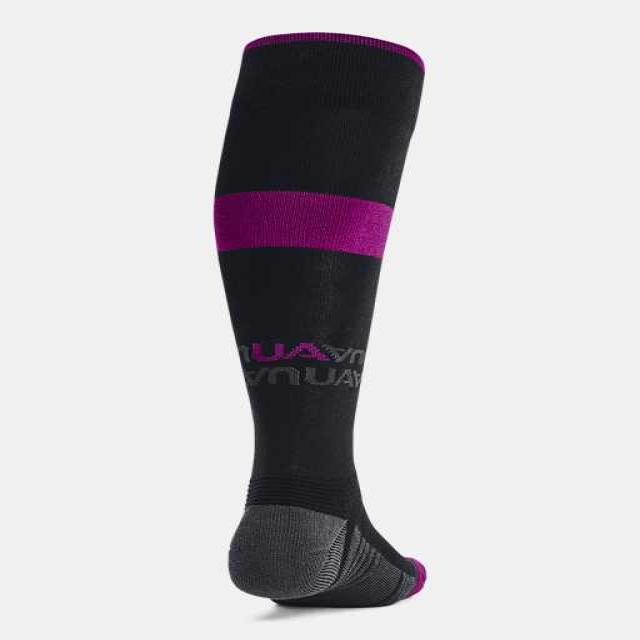sock: (212, 31, 428, 608)
